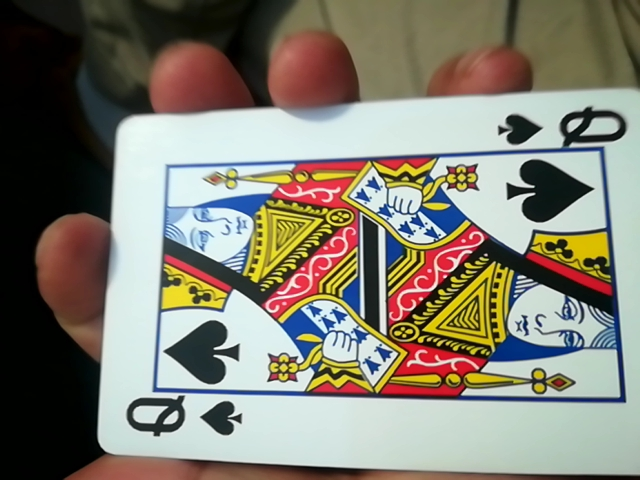ht q: (80, 89, 633, 479)
